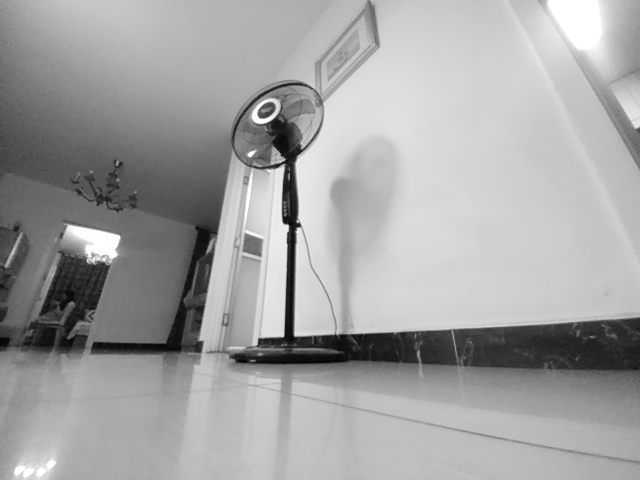bar stool: (228, 322, 350, 366)
